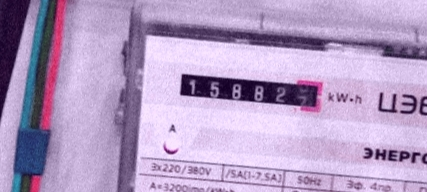1: (185, 76, 197, 95)
2: (273, 84, 286, 102)
5: (206, 79, 220, 97)
7: (295, 92, 307, 107)
8: (229, 81, 242, 99), (252, 83, 264, 100)
screen: (171, 61, 329, 117)
